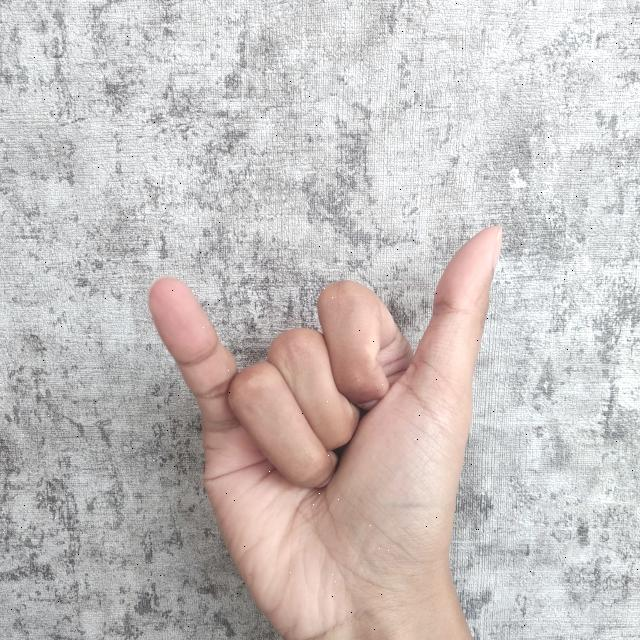Y: (143, 221, 514, 640)
